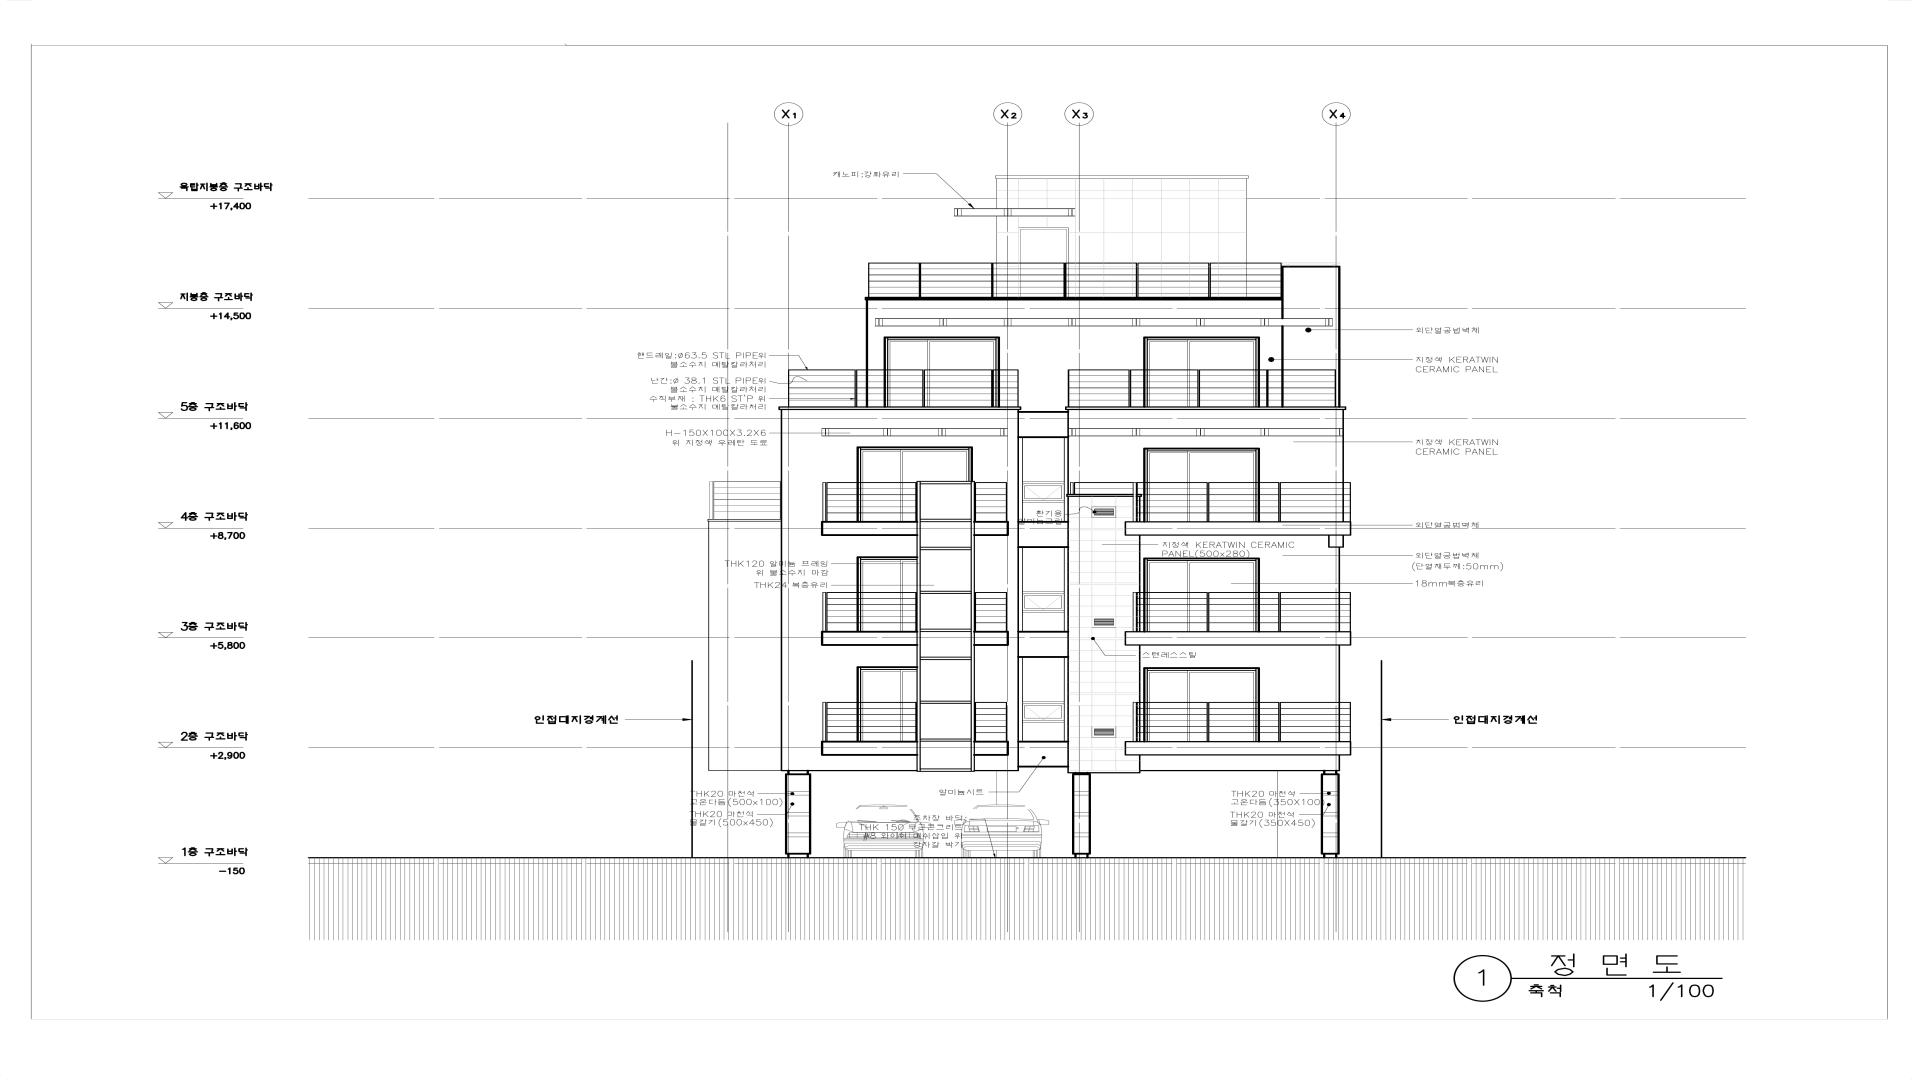door: (1018, 227, 1068, 297)
wall: (707, 175, 1352, 858)
window: (856, 446, 973, 521), (1143, 558, 1261, 632), (1143, 667, 1261, 741), (1143, 447, 1259, 521), (884, 336, 1000, 406), (1143, 336, 1259, 406), (856, 556, 916, 630), (857, 666, 916, 741), (1017, 658, 1069, 741), (1018, 438, 1069, 521), (1018, 549, 1069, 630), (1092, 506, 1116, 517), (1092, 617, 1116, 628), (1092, 727, 1116, 737)
